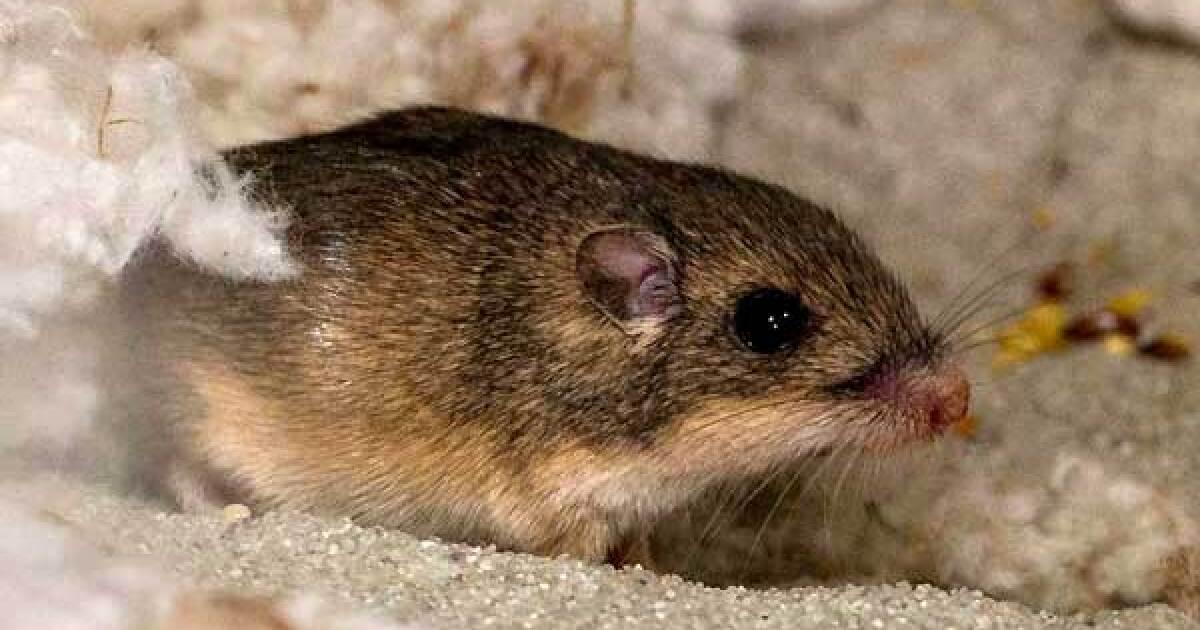rat: (120, 105, 970, 562)
